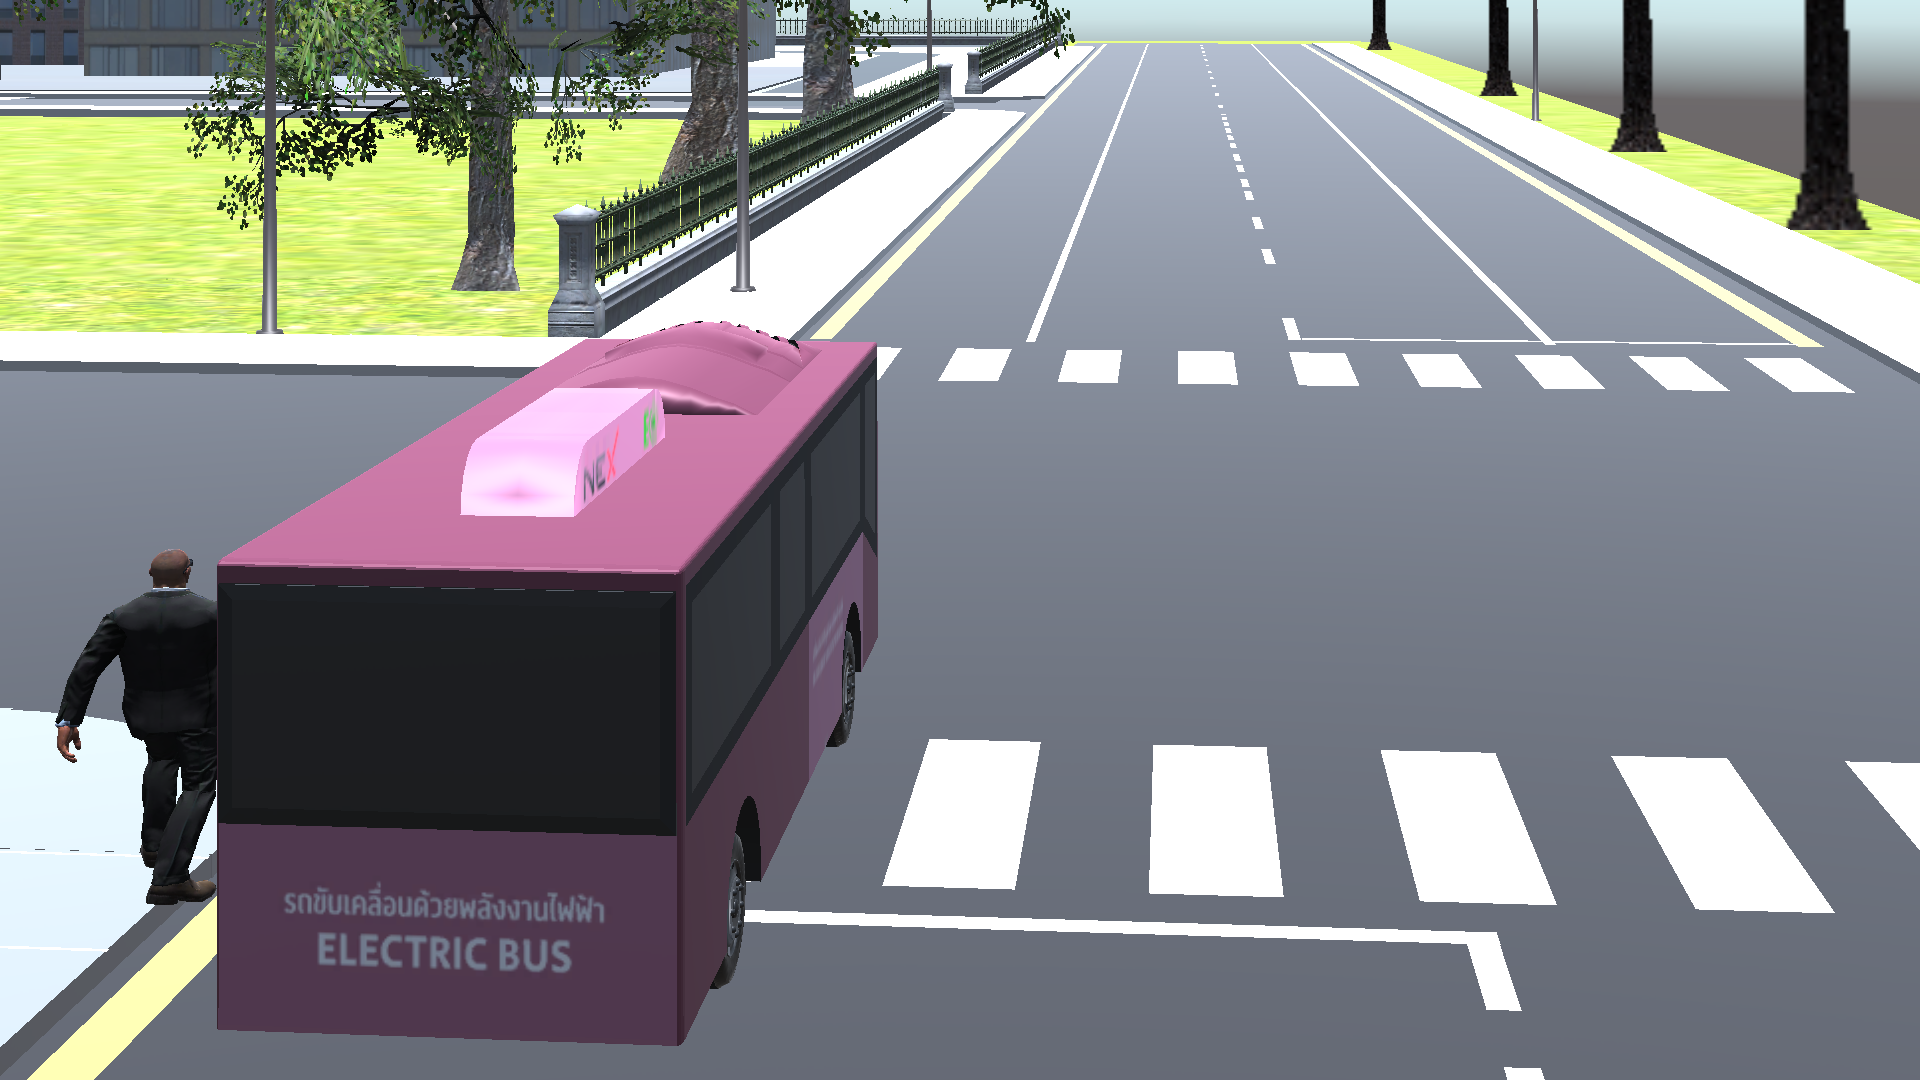pedestrian: (39, 541, 215, 913)
